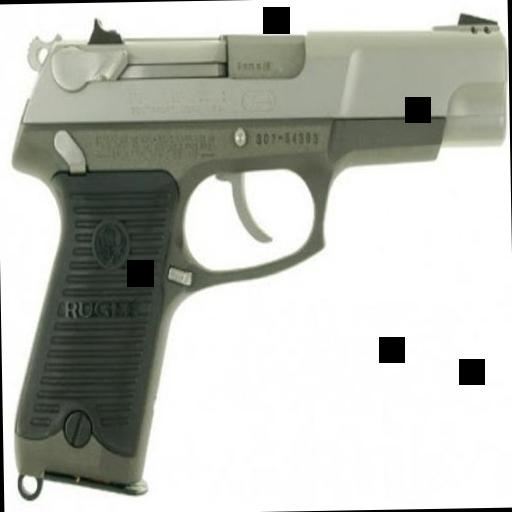Handgun: (5, 8, 511, 500)
